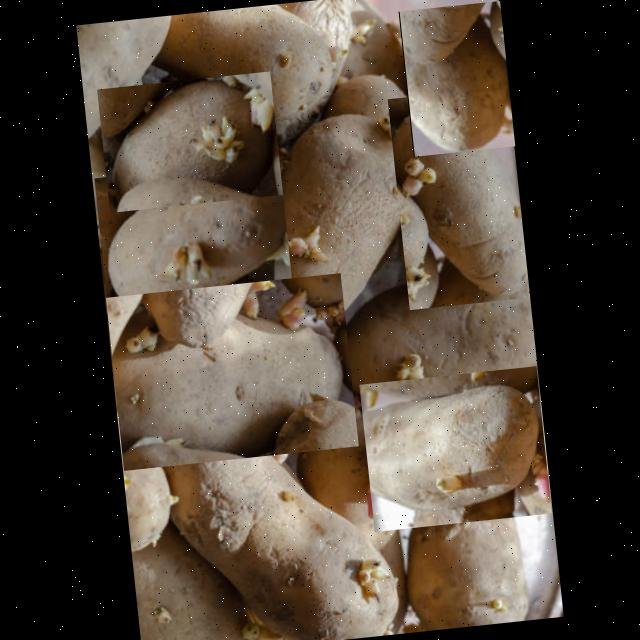Sprouted potato: (126, 368, 429, 640), (233, 102, 446, 339), (105, 272, 358, 469), (94, 157, 294, 320), (359, 364, 551, 530), (328, 272, 539, 423), (388, 85, 530, 309), (149, 0, 370, 137), (96, 70, 282, 212), (377, 481, 540, 634), (398, 0, 515, 155)
